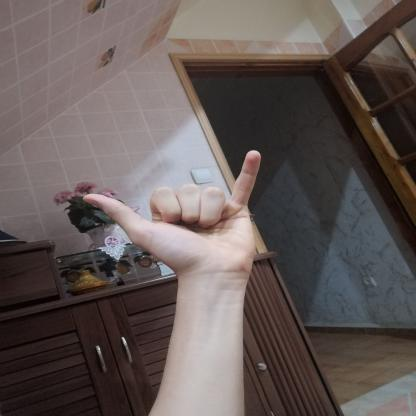YA: (66, 139, 276, 291)
